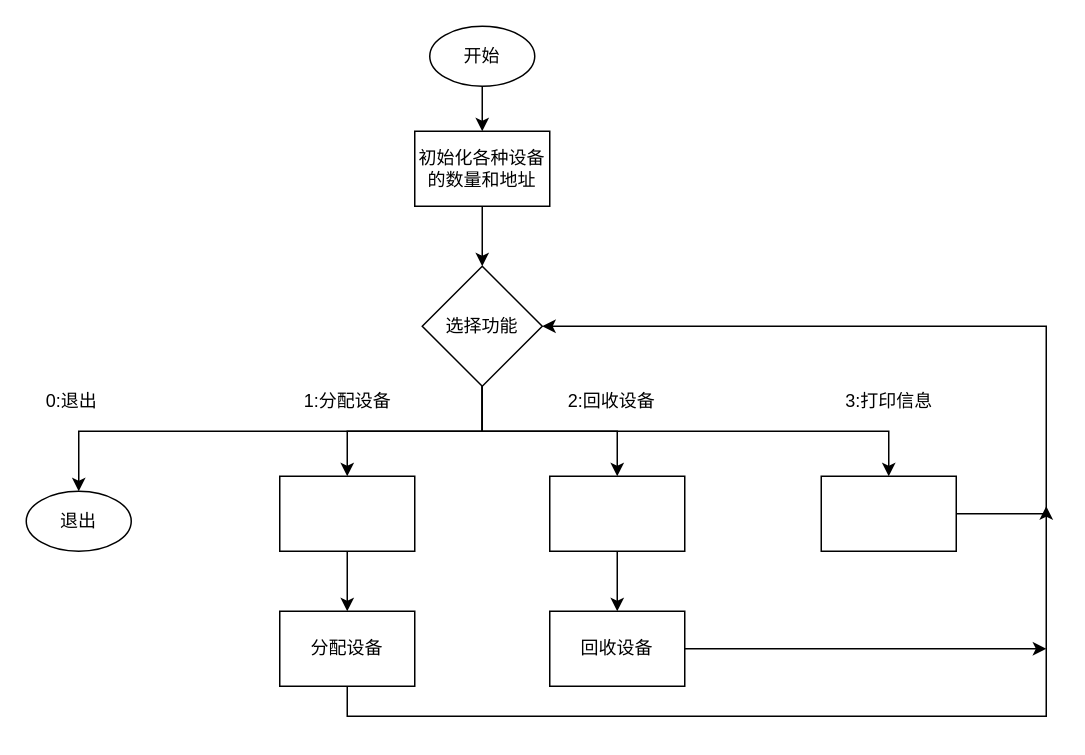
Some shapes in this 1085 by 755 pixel diagram are drawn without their labels. The shapes that lost their labels are listed below. From the top down, each one's centre as x and y in pixels, then its label:
point 346,513: 输入作业名、作业所需设备类和相对编号
point 616,513: 输入作业名和作业要归还的设备类型
point 888,513: 打印信息
